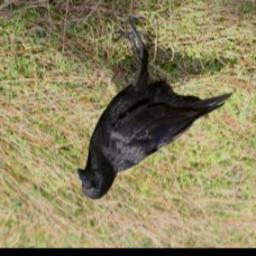Crow: (80, 15, 237, 201)
